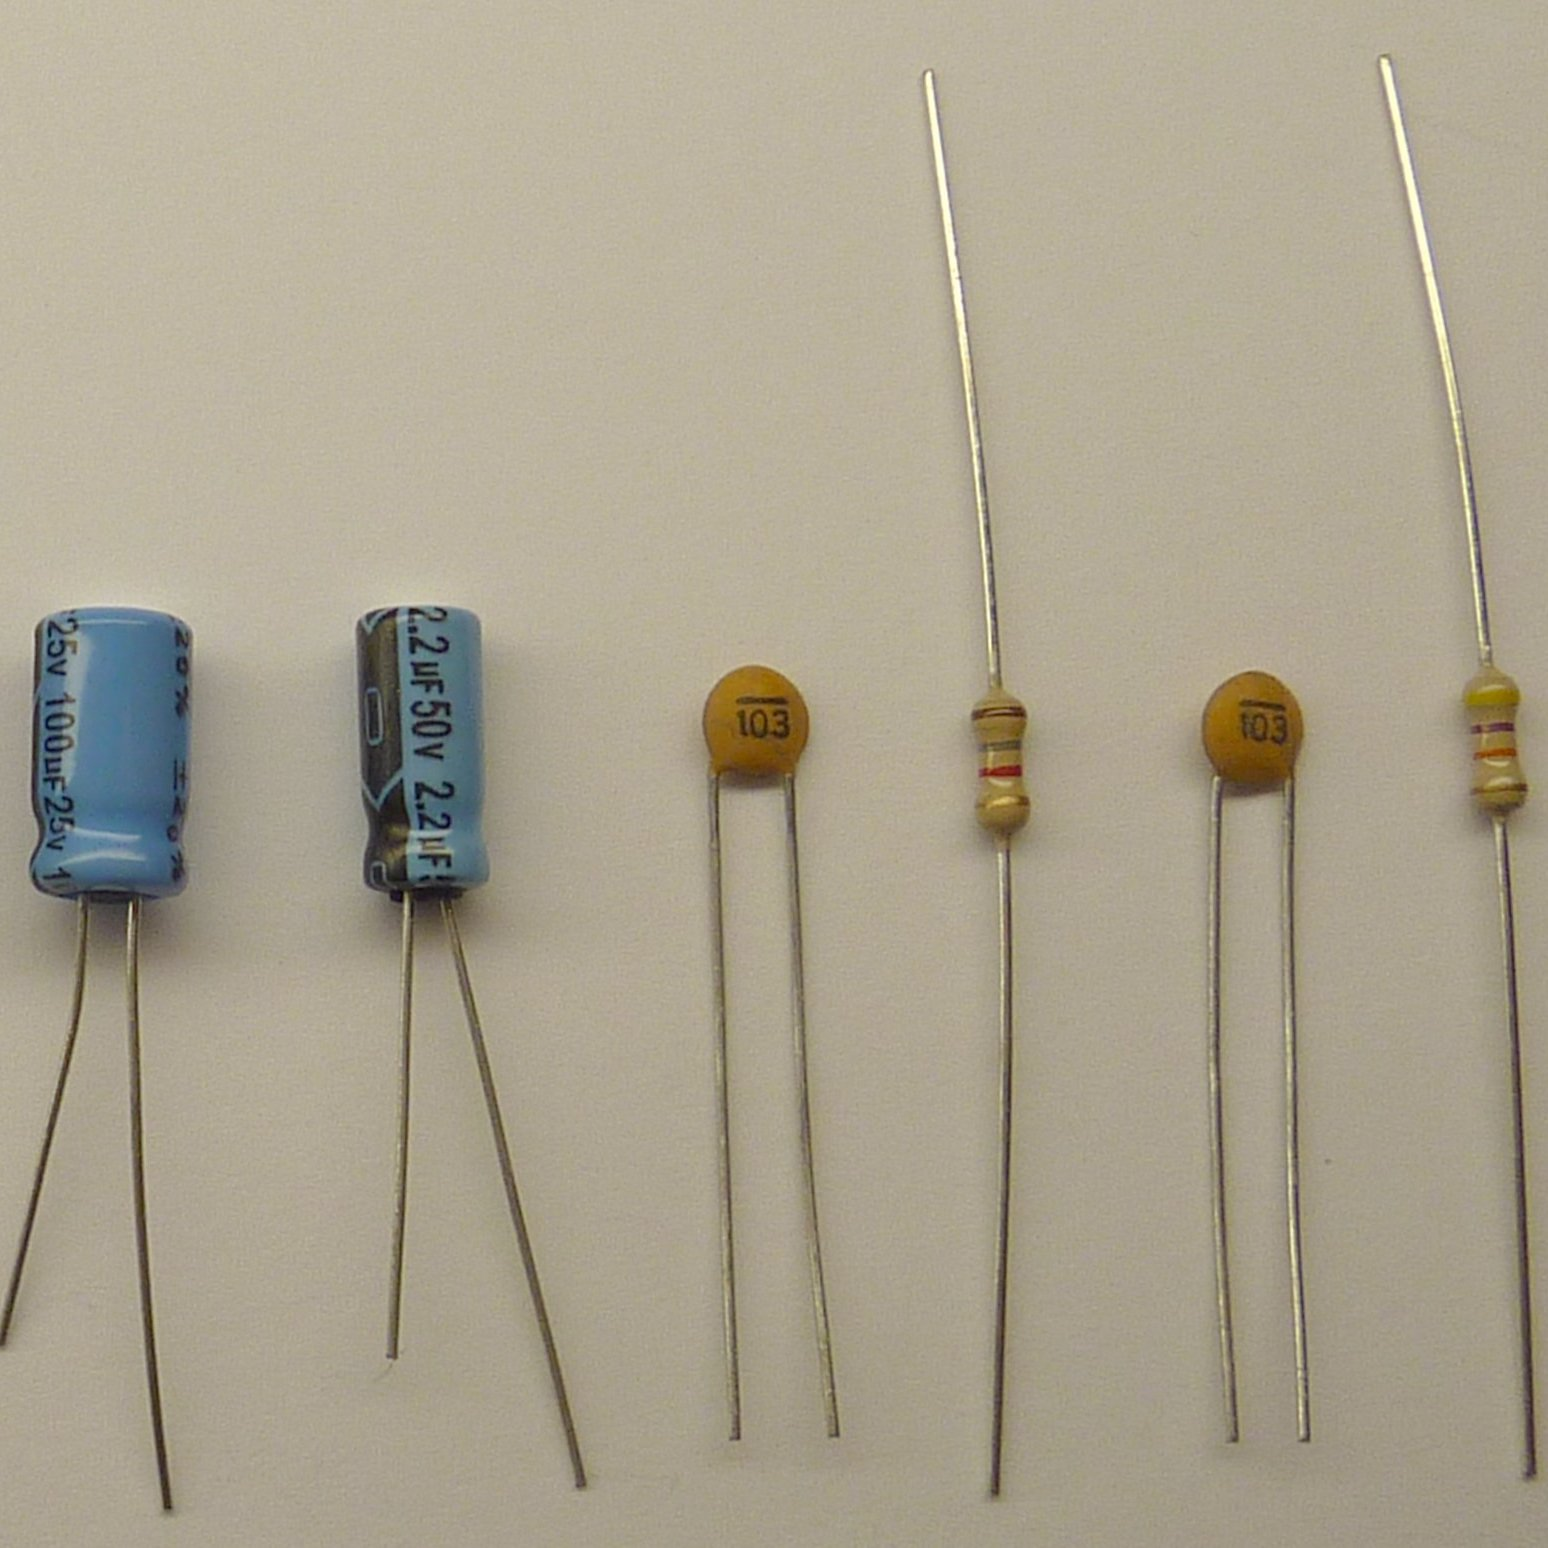Capacitor: (26, 607, 194, 904), (353, 602, 490, 902)
Resistor: (1462, 669, 1530, 819), (965, 688, 1033, 836)
